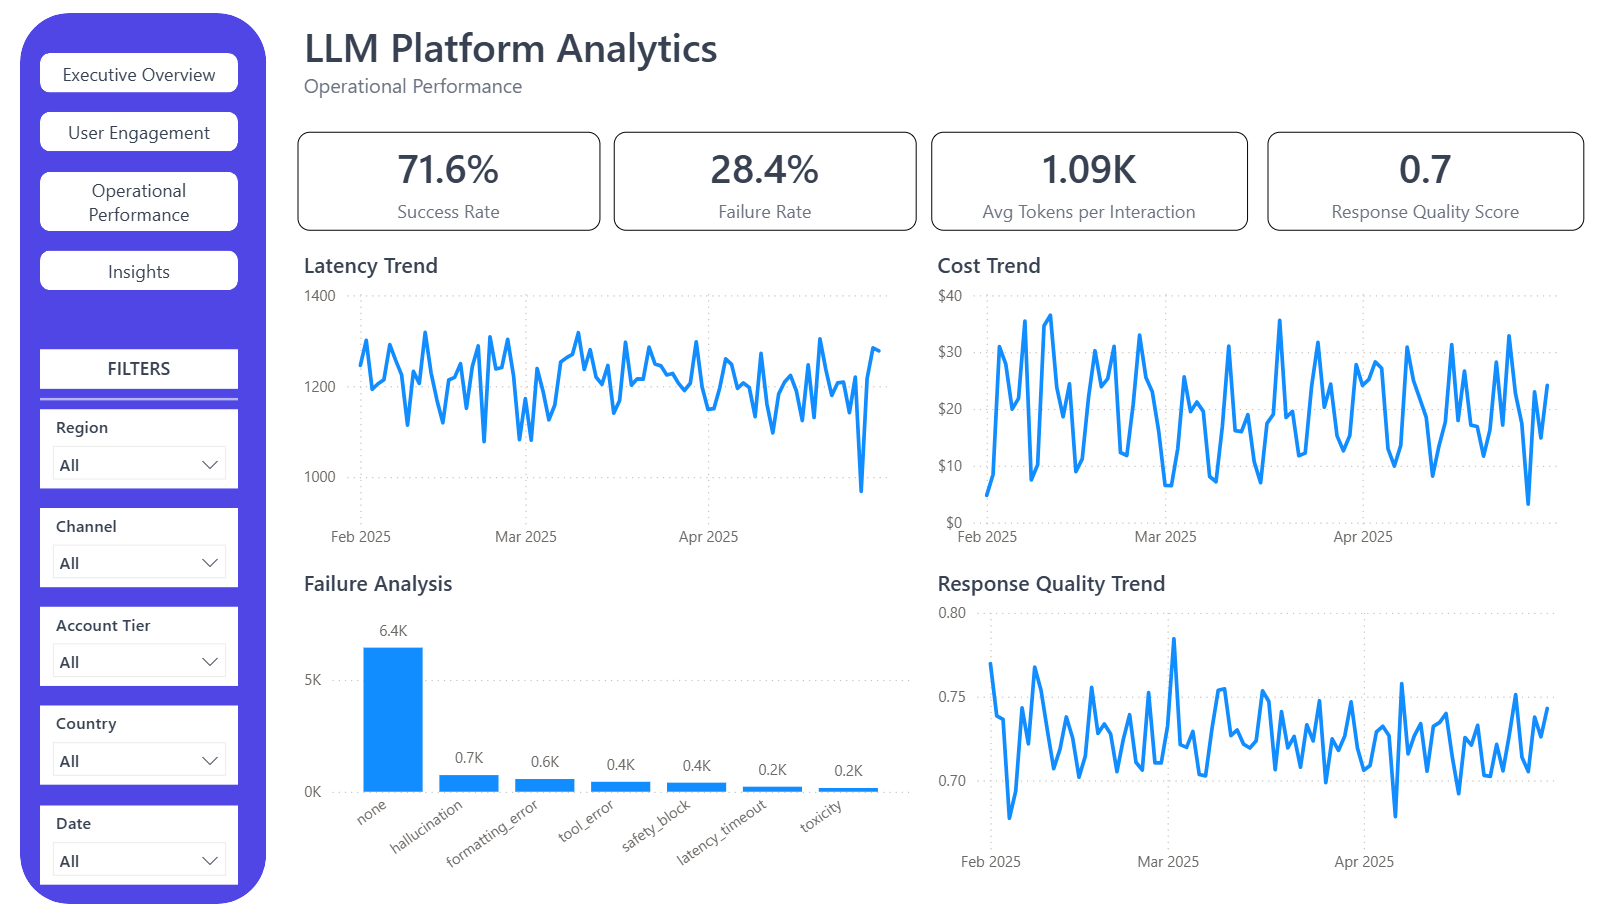

Layout of this report page (visuals, bound fields, positions):
{"tool":"powerbi","page":{"name":"Operational Performance","canvas":[1280,720],"ordinal":2},"visuals":[{"type":"shape","box":[0,0,199,720],"z":0},{"type":"textbox","box":[224,0,1056,80],"z":1000},{"type":"actionButton","box":[16,32,160,32],"z":2000},{"type":"actionButton","box":[16,80,160,32],"z":3000},{"type":"actionButton","box":[16,128,160,48],"z":4000},{"type":"actionButton","box":[16,192,160,32],"z":5000},{"type":"textbox","box":[16,272,160,32],"z":6000},{"type":"shape","box":[16,304,160,16],"z":7000},{"type":"slicer","fields":{"Values":["llm_system_interactions_cleaned.region"]},"box":[16,320,160,64],"z":8000},{"type":"slicer","fields":{"Values":["llm_system_interactions_cleaned.channel"]},"box":[16,400,160,64],"z":9000},{"type":"slicer","fields":{"Values":["llm_system_interactions_cleaned.timestamp_utc"]},"box":[16,640,160,64],"z":10000},{"type":"slicer","fields":{"Values":["llm_system_interactions_cleaned.country_code"]},"box":[16,560,160,64],"z":11000},{"type":"slicer","fields":{"Values":["llm_system_interactions_cleaned.account_tier"]},"box":[16,480,160,64],"z":12000},{"type":"card","fields":{"Values":["llm_system_interactions_cleaned.Success Rate"]},"box":[224,96,245,80],"z":12001},{"type":"card","fields":{"Values":["llm_system_interactions_cleaned.Failure Rate"]},"box":[480,96,245,80],"z":12002},{"type":"card","fields":{"Values":["llm_system_interactions_cleaned.Avg Tokens per Interaction"]},"box":[736,96,256,80],"z":12003},{"type":"card","fields":{"Values":["llm_system_interactions_cleaned.Response Quality Score"]},"box":[1008,96,256,80],"z":12004},{"type":"lineChart","title":"Latency Trend","fields":{"Y":["llm_system_interactions_cleaned.Average Latency (ms)"],"Category":["llm_system_interactions_cleaned.date_utc.Variation.Date Hierarchy.Year","llm_system_interactions_cleaned.date_utc.Variation.Date Hierarchy.Quarter","llm_system_interactions_cleaned.date_utc.Variation.Date Hierarchy.Month","llm_system_interactions_cleaned.date_utc.Variation.Date Hierarchy.Day"]},"box":[224,192,500,250],"z":12005},{"type":"lineChart","title":"Cost Trend","fields":{"Category":["llm_system_interactions_cleaned.date_utc.Variation.Date Hierarchy.Year","llm_system_interactions_cleaned.date_utc.Variation.Date Hierarchy.Quarter","llm_system_interactions_cleaned.date_utc.Variation.Date Hierarchy.Month","llm_system_interactions_cleaned.date_utc.Variation.Date Hierarchy.Day"],"Y":["llm_system_interactions_cleaned.Total Cost"]},"box":[736,192,528,250],"z":12006},{"type":"clusteredColumnChart","title":"Failure Analysis","fields":{"Category":["llm_system_interactions_cleaned.failure_type"],"Y":["CountNonNull(llm_system_interactions_cleaned.interaction_id)"]},"box":[224,448,500,256],"z":12007},{"type":"lineChart","title":"Response Quality Trend","fields":{"Category":["llm_system_interactions_cleaned.date_utc.Variation.Date Hierarchy.Year","llm_system_interactions_cleaned.date_utc.Variation.Date Hierarchy.Quarter","llm_system_interactions_cleaned.date_utc.Variation.Date Hierarchy.Month","llm_system_interactions_cleaned.date_utc.Variation.Date Hierarchy.Day"],"Y":["llm_system_interactions_cleaned.Response Quality Score"]},"box":[736,448,528,256],"z":12008}]}

Visuals, with their boxes in screenshot pixels (x1, y1, x2, y2), scaled from the page's 1280x720 canvas onto the 1607x921 screenshot:
shape: pyautogui.locateOnScreen(0, 0, 250, 920)
textbox: pyautogui.locateOnScreen(281, 0, 1606, 102)
actionButton: pyautogui.locateOnScreen(20, 41, 221, 82)
actionButton: pyautogui.locateOnScreen(20, 102, 221, 143)
actionButton: pyautogui.locateOnScreen(20, 164, 221, 225)
actionButton: pyautogui.locateOnScreen(20, 246, 221, 287)
textbox: pyautogui.locateOnScreen(20, 348, 221, 389)
shape: pyautogui.locateOnScreen(20, 389, 221, 409)
slicer - llm_system_interactions_cleaned.region: pyautogui.locateOnScreen(20, 409, 221, 491)
slicer - llm_system_interactions_cleaned.channel: pyautogui.locateOnScreen(20, 512, 221, 594)
slicer - llm_system_interactions_cleaned.timestamp_utc: pyautogui.locateOnScreen(20, 819, 221, 901)
slicer - llm_system_interactions_cleaned.country_code: pyautogui.locateOnScreen(20, 716, 221, 798)
slicer - llm_system_interactions_cleaned.account_tier: pyautogui.locateOnScreen(20, 614, 221, 696)
card - llm_system_interactions_cleaned.Success Rate: pyautogui.locateOnScreen(281, 123, 589, 225)
card - llm_system_interactions_cleaned.Failure Rate: pyautogui.locateOnScreen(603, 123, 910, 225)
card - llm_system_interactions_cleaned.Avg Tokens per Interaction: pyautogui.locateOnScreen(924, 123, 1245, 225)
card - llm_system_interactions_cleaned.Response Quality Score: pyautogui.locateOnScreen(1266, 123, 1587, 225)
"Latency Trend" lineChart: pyautogui.locateOnScreen(281, 246, 909, 565)
"Cost Trend" lineChart: pyautogui.locateOnScreen(924, 246, 1587, 565)
"Failure Analysis" clusteredColumnChart: pyautogui.locateOnScreen(281, 573, 909, 901)
"Response Quality Trend" lineChart: pyautogui.locateOnScreen(924, 573, 1587, 901)
